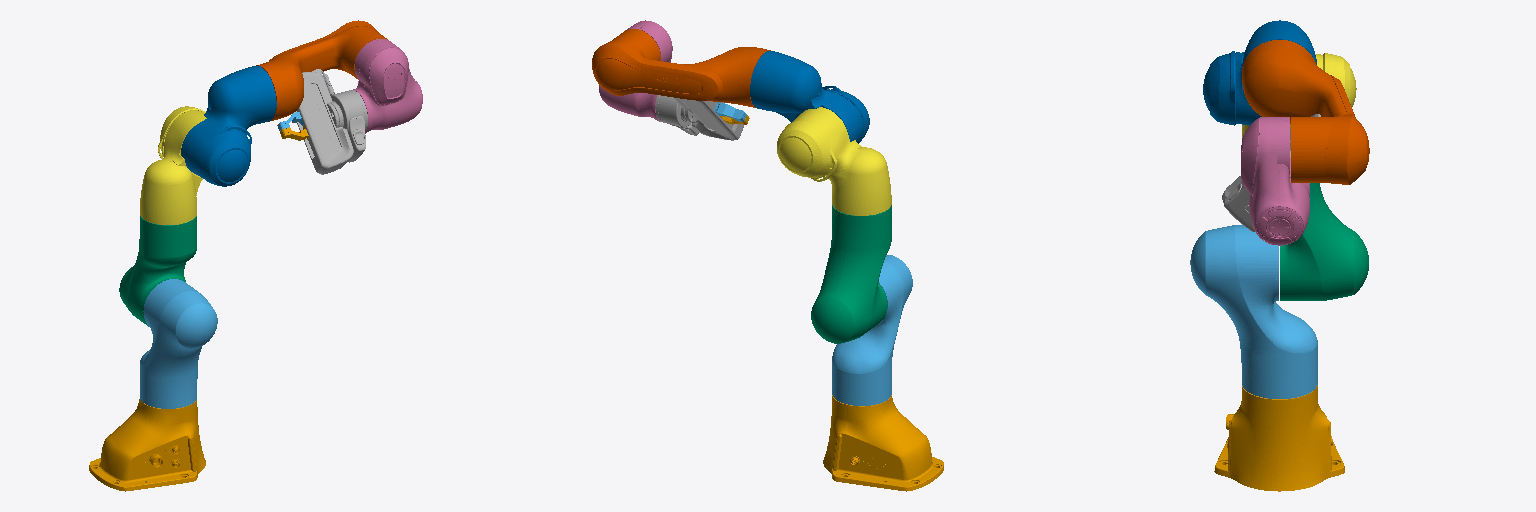
URDF robot description (panda_arm_hand):
<?xml version='1.0' encoding='utf-8'?>
<robot name="panda_arm_hand">

    <link name="link0">
      <inertial>
        <origin xyz="0 0 0.05" rpy="0 0 0" />
        <mass value="4" />
        <inertia ixx="0.4" iyy="0.4" izz="0.4" ixy="0" ixz="0" iyz="0" />
      </inertial>
      <visual>
        <origin xyz="0.0 0.0 0.0" rpy="0.0 0.0 0.0"/>
        <geometry>
          <mesh filename="meshes/visual/link0.obj"/>
        </geometry>
      </visual>
<!--       <collision>
        <geometry>
          <mesh filename="meshes/collision/link0.obj"/>
        </geometry>
      </collision> -->
    </link>
    <link name="link1">
      <inertial>
        <origin xyz="0 0 -0.07" rpy="0 -0 0" />
        <mass value="3" />
        <inertia ixx="0.3" iyy="0.3" izz="0.3" ixy="0" ixz="0" iyz="0" />
      </inertial>
      <visual>
        <origin xyz="0.0 0.0 0.0" rpy="0.0 0.0 0.0"/>
        <geometry>
          <mesh filename="meshes/visual/link1.obj"/>
        </geometry>
      </visual>
      <!-- <collision>
        <geometry>
          <mesh filename="meshes/collision/link1.obj"/>
        </geometry>
      </collision> -->
    </link>
    <link name="link2">
      <inertial>
        <origin xyz="0 -0.1 0" rpy="0 -0 0" />
        <mass value="3" />
        <inertia ixx="0.3" iyy="0.3" izz="0.3" ixy="0" ixz="0" iyz="0" />
      </inertial>
      <visual>
        <origin xyz="0.0 0.0 0.0" rpy="0.0 0.0 0.0"/>
        <geometry>
          <mesh filename="meshes/visual/link2.obj"/>
        </geometry>
      </visual>
      <!-- <collision>
        <geometry>
          <mesh filename="meshes/collision/link2.obj"/>
        </geometry>
      </collision> -->
    </link>
    <link name="link3">
      <inertial>
        <origin xyz="0.04 0 -0.05" rpy="0 -0 0" />
        <mass value="2" />
        <inertia ixx="0.2" iyy="0.2" izz="0.2" ixy="0" ixz="0" iyz="0" />
      </inertial>
      <visual>
        <origin xyz="0.0 0.0 0.0" rpy="0.0 0.0 0.0"/>
        <geometry>
          <mesh filename="meshes/visual/link3.obj"/>
        </geometry>
      </visual>
      <!-- <collision>
        <geometry>
          <mesh filename="meshes/collision/link3.obj"/>
        </geometry>
      </collision> -->
    </link>
    <link name="link4">
      <inertial>
        <origin xyz="-0.04 0.05 0" rpy="0 -0 0" />
        <mass value="2" />
        <inertia ixx="0.2" iyy="0.2" izz="0.2" ixy="0" ixz="0" iyz="0" />
      </inertial>
      <visual>
        <origin xyz="0.0 0.0 0.0" rpy="0.0 0.0 0.0"/>
        <geometry>
          <mesh filename="meshes/visual/link4.obj"/>
        </geometry>
      </visual>
<!--       <collision>
        <geometry>
          <mesh filename="meshes/collision/link4.obj"/>
        </geometry>
      </collision> -->
    </link>
    <link name="link5">
      <inertial>
        <origin xyz="0 0 -0.15" rpy="0 -0 0" />
        <mass value="2" />
        <inertia ixx="0.2" iyy="0.2" izz="0.2" ixy="0" ixz="0" iyz="0" />
      </inertial>
      <visual>
        <origin xyz="0.0 0.0 0.0" rpy="0.0 0.0 0.0"/>
        <geometry>
          <mesh filename="meshes/visual/link5.obj"/>
        </geometry>
      </visual>
<!--       <collision>
        <geometry>
          <mesh filename="meshes/collision/link5.obj"/>
        </geometry>
      </collision> -->
    </link>
    <link name="link6">
      <inertial>
        <origin xyz="0.06 0 0" rpy="0 -0 0" />
        <mass value="1.5" />
        <inertia ixx="0.1" iyy="0.1" izz="0.1" ixy="0" ixz="0" iyz="0" />
      </inertial>
      <visual>
        <origin xyz="0.0 0.0 0.0" rpy="0.0 0.0 0.0"/>
        <geometry>
          <mesh filename="meshes/visual/link6.obj"/>
        </geometry>
      </visual>
      <!-- <collision>
        <geometry>
          <mesh filename="meshes/collision/link6.obj"/>
        </geometry>
      </collision> -->
    </link>
    <link name="link7">
      <inertial>
        <origin xyz="0 0 0.17" rpy="0 -0 0" />
        <mass value="1.8" />
        <inertia ixx="0.09" iyy="0.05" izz="0.07" ixy="0" ixz="0" iyz="0" />
      </inertial>
      <visual>
        <origin xyz="0.0 0.0 0.0" rpy="0.0 0.0 0.0"/>
        <geometry>
          <mesh filename="meshes/visual/link7.obj"/>
        </geometry>
      </visual>
      <!-- <collision>
        <geometry>
          <mesh filename="meshes/collision/link7.obj"/>
        </geometry>
      </collision> -->
      <visual>
        <origin xyz="0 0 0.107" rpy="0 0 -0.78539816339" />
        <geometry>
          <mesh filename="meshes/visual/hand.obj"/>
        </geometry>
      </visual>
<!--       <collision>
        <origin xyz="0 0 0.107" rpy="0 0 -0.78539816339" />
        <geometry>
          <mesh filename="meshes/collision/hand.obj"/>
        </geometry>
      </collision> -->
    </link>
    <link name="leftfinger">
      <inertial>
        <origin xyz="0 0 0.05" rpy="0 -0 0" />
        <mass value="0.1" />
        <inertia ixx="0.01" iyy="0.01" izz="0.005" ixy="0" ixz="0" iyz="0" />
      </inertial>
      <visual>
        <origin xyz="0.0 0.0 0.0" rpy="0.0 0.0 0.0"/>
        <geometry>
          <mesh filename="meshes/visual/finger.obj"/>
        </geometry>
      </visual>
      <collision>
        <origin xyz="0 0.005 0.043" rpy="0 0 0" />
          <geometry>
            <box size="0.02 0.01 0.02"/>
          </geometry>
      </collision>
<!--       <collision>
        <geometry>
          <mesh filename="meshes/collision/finger.obj"/>
        </geometry>
      </collision> -->
    </link>
    <link name="rightfinger">
      <inertial>
        <origin xyz="0 0 0.05" rpy="0 -0 0" />
        <mass value="0.1" />
        <inertia ixx="0.01" iyy="0.01" izz="0.005" ixy="0" ixz="0" iyz="0" />
      </inertial>
      <visual>
        <origin xyz="0 0 0" rpy="0 0 3.14159265359" />
        <geometry>
          <mesh filename="meshes/visual/finger.obj"/>
        </geometry>
      </visual>
      <collision>
        <origin xyz="0 -0.005 0.043" rpy="0 0 0" />
          <geometry>
            <box size="0.02 0.01 0.02"/>
          </geometry>
      </collision>
<!--       <collision>
        <origin xyz="0 0 0" rpy="0 0 3.14159265359" />
        <geometry>
          <mesh filename="meshes/collision/finger.obj"/>
        </geometry>
      </collision> -->
    </link>
    <joint name="joint1" type="revolute">
      <origin rpy="0 0 0" xyz="0 0 0.333"/>
      <parent link="link0"/>
      <child link="link1"/>
      <axis xyz="0 0 1"/>
      <limit effort="87" lower="-2.8973" upper="2.8973" velocity="2.1750"/>
    </joint>
    <joint name="joint2" type="revolute">
      <origin rpy="-1.57079632679 0 0" xyz="0 0 0"/>
      <parent link="link1"/>
      <child link="link2"/>
      <axis xyz="0 0 1"/>
      <calibration falling="15.0" />
      <limit effort="87" lower="-1.7628" upper="1.7628" velocity="2.1750"/>
    </joint>
    <joint name="joint3" type="revolute">
      <origin rpy="1.57079632679 0 0" xyz="0 -0.316 0"/>
      <parent link="link2"/>
      <child link="link3"/>
      <axis xyz="0 0 1"/>
      <limit effort="87" lower="-2.8973" upper="2.8973" velocity="2.1750"/>
    </joint>
    <joint name="joint4" type="revolute">
      <origin rpy="1.57079632679 0 0" xyz="0.0825 0 0"/>
      <parent link="link3"/>
      <child link="link4"/>
      <axis xyz="0 0 1"/>
      <calibration falling="-95.0" />
      <limit effort="87" lower="-3.0718" upper="-0.0698" velocity="2.1750"/>
    </joint>
    <joint name="joint5" type="revolute">
      <origin rpy="-1.57079632679 0 0" xyz="-0.0825 0.384 0"/>
      <parent link="link4"/>
      <child link="link5"/>
      <axis xyz="0 0 1"/>
      <limit effort="12" lower="-2.8973" upper="2.8973" velocity="2.6100"/>
    </joint>
    <joint name="joint6" type="revolute">
      <origin rpy="1.57079632679 0 0" xyz="0 0 0"/>
      <parent link="link5"/>
      <child link="link6"/>
      <axis xyz="0 0 1"/>
      <calibration falling="125.0" />
      <limit effort="12" lower="-0.0175" upper="3.7525" velocity="2.6100"/>
    </joint>
    <joint name="joint7" type="revolute">
      <origin rpy="1.57079632679 0 0" xyz="0.088 0 0"/>
      <parent link="link6"/>
      <child link="link7"/>
      <axis xyz="0 0 1"/>
      <limit effort="12" lower="-2.8973" upper="2.8973" velocity="2.6100"/>
    </joint>
    <joint name="finger_joint1" type="prismatic">
      <parent link="link7"/>
      <child link="leftfinger"/>
      <origin xyz="0 0 0.1654" rpy="0 0 -0.78539816339"/>
      <axis xyz="0 1 0"/>
      <calibration falling="0.04" />
      <limit effort="20" lower="0.0" upper="0.04" velocity="0.2"/>
    </joint>
    <joint name="finger_joint2" type="prismatic">
      <parent link="link7"/>
      <child link="rightfinger"/>
      <origin xyz="0 0 0.1654" rpy="0 0 -0.78539816339"/>
      <axis xyz="0 1 0"/>
      <calibration falling="-0.04" />
      <limit effort="20" lower="-0.04" upper="0" velocity="0.2"/>
    </joint>
</robot>

--- Facts derived from the render (not from the file) ---
Views: 3 orthographic renders of the robot side by side, from view 1: azimuth 30°, elevation 25°; view 2: azimuth 150°, elevation 25°; view 3: azimuth 270°, elevation 25°.
Model panda_arm_hand with 10 links and 9 joints (7 revolute, 2 prismatic), rooted at link0, posed all joints at 0 but 1 set to mid-range because 0 is outside their limits (joint4 = -1.57).
Links seen in each view (by area): view 1: link0, link1, link4, link7, link3, link5, link6, link2; view 2: link0, link5, link2, link3, link1, link4, link7, link6; view 3: link1, link5, link0, link2, link6, link4, link7, link3.
Boxes of the visible links, x1,y1,x2,y2 form: link0: [89, 399, 205, 491]; link1: [140, 279, 217, 408]; link4: [181, 66, 276, 186]; link7: [294, 69, 367, 174]; link3: [140, 106, 206, 224]; link5: [256, 20, 387, 121]; link6: [353, 39, 422, 133]; link2: [119, 216, 196, 326]; link0: [823, 395, 943, 491]; link5: [592, 29, 770, 107]; link2: [811, 205, 891, 343]; link3: [777, 107, 891, 215]; link1: [832, 255, 912, 405]; link4: [750, 51, 869, 143]; link7: [655, 95, 743, 140]; link6: [599, 20, 672, 121]; link1: [1190, 225, 1317, 398]; link5: [1242, 40, 1369, 184]; link0: [1214, 385, 1344, 491]; link2: [1280, 183, 1368, 300]; link6: [1241, 117, 1309, 245]; link4: [1203, 20, 1316, 125]; link7: [1222, 114, 1320, 231]; link3: [1242, 53, 1356, 137].
Bounding box of the posed robot: 0.7022 × 0.2593 × 0.7865 m (x, y, z).
Meshes: 10 distinct files referenced, 11 mesh visuals loaded (10 OBJ).
